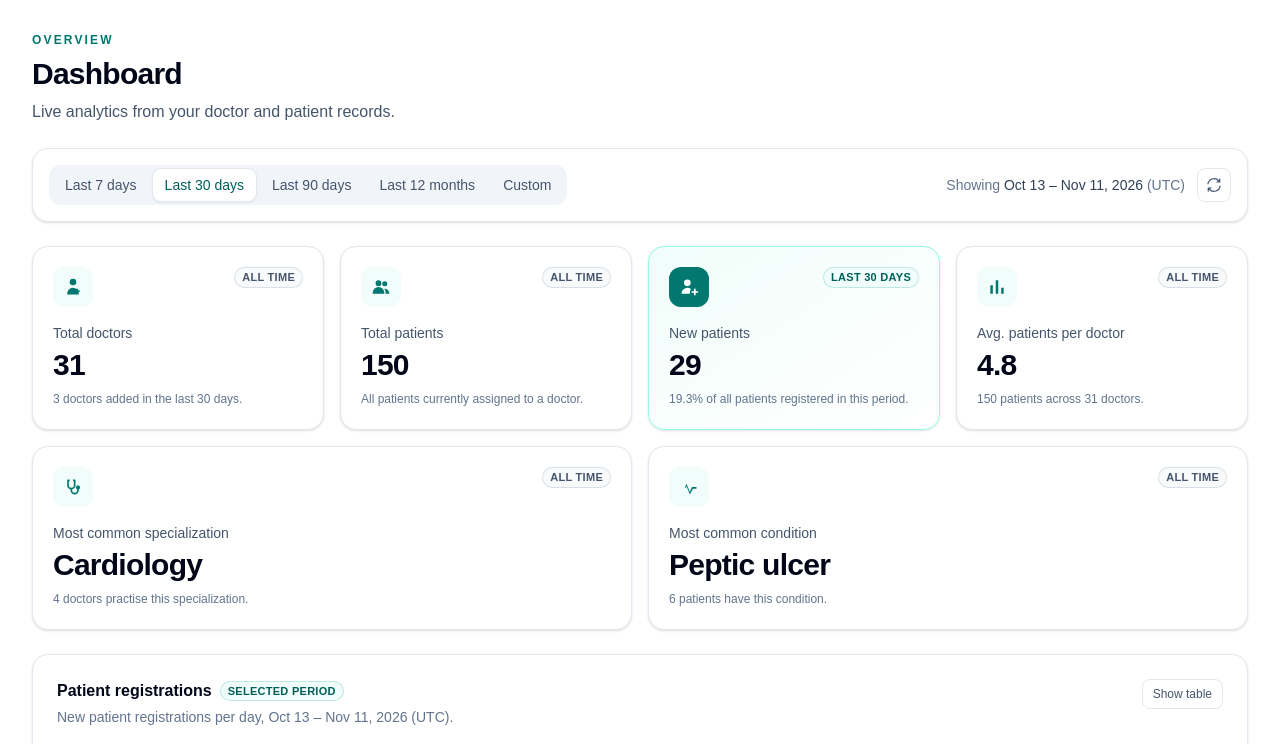
DashboardManager › validates and applies a custom range
Expected: the text "31" is shown, [53,348,85,381]
Click the radio button labelled "Custom".
click(527, 185)  # box [491,169,563,201]
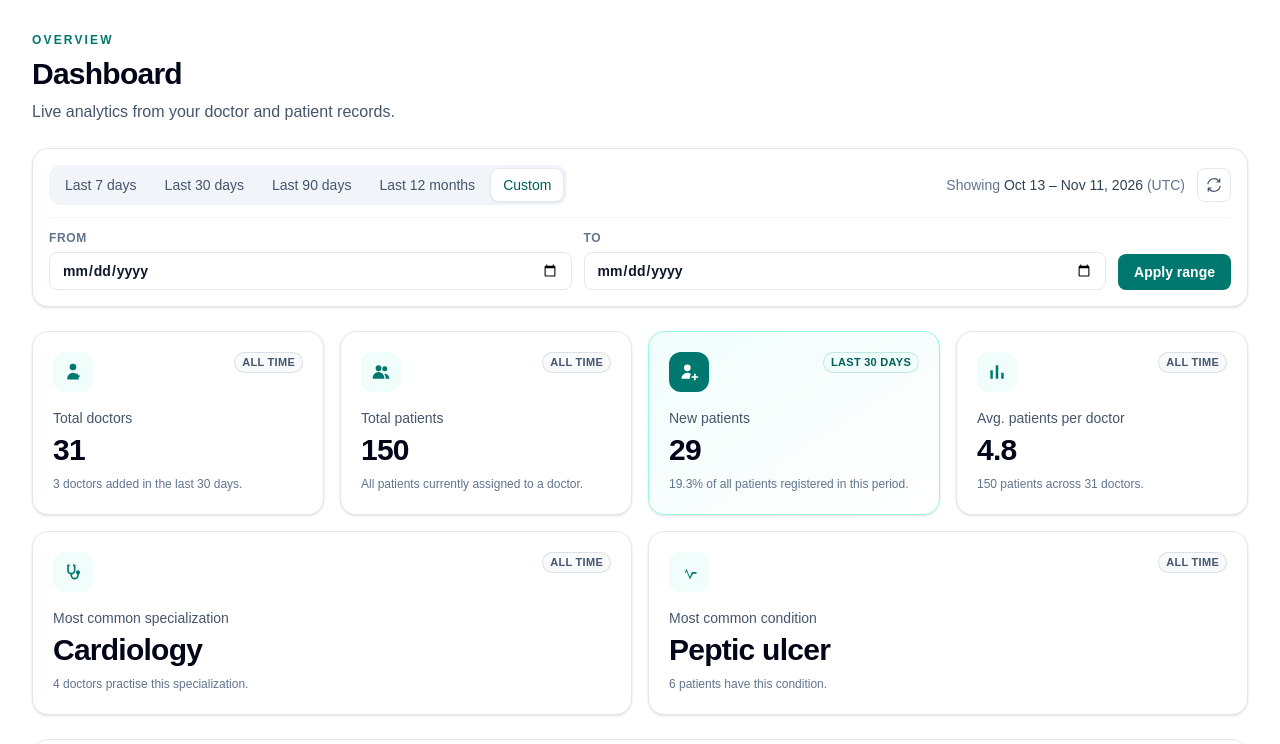
Type "2026-04-01" into the date field named "Custom start date".
click(310, 271); type("2026-04-01")  # box [49,252,572,290]
Type "2026-03-01" into the date field named "Custom end date".
click(845, 271); type("2026-03-01")  # box [584,252,1106,290]
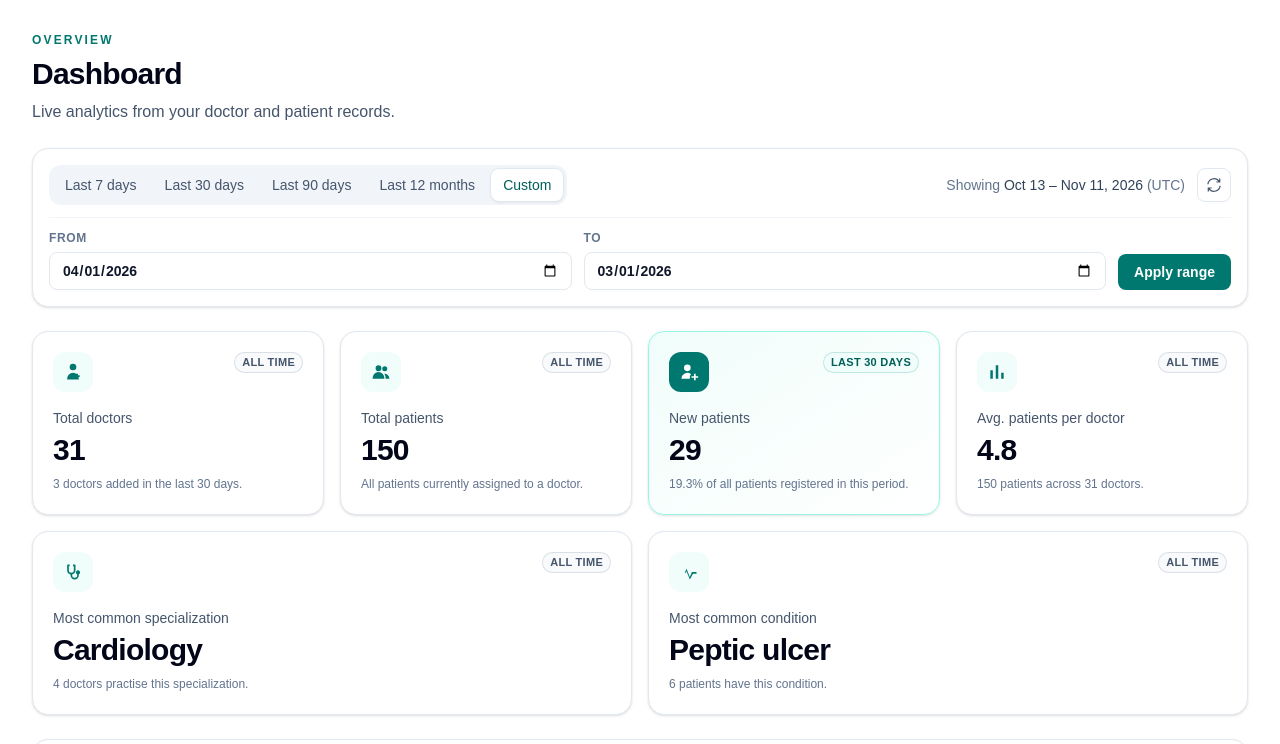
Click the button "Apply range".
click(1175, 272)  # box [1118,254,1231,290]
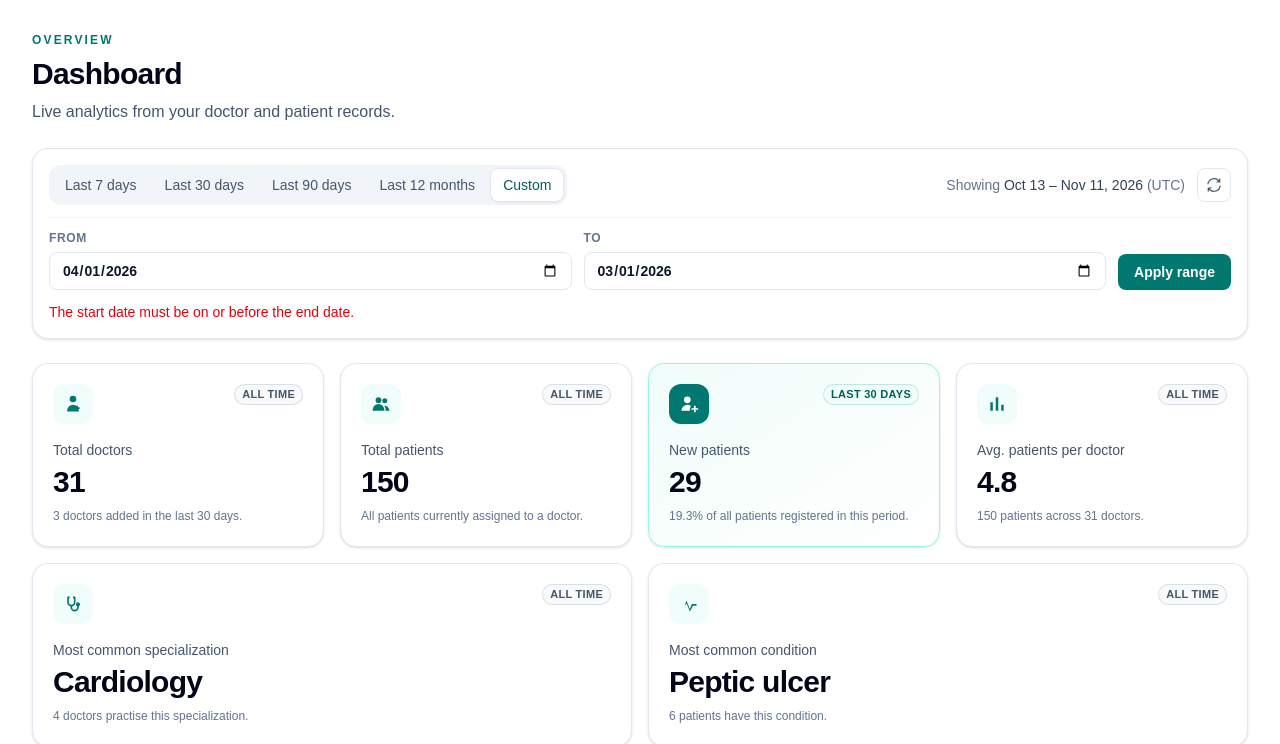
Expected: the message reads "The start date must be on or before the end date.", [49,304,354,320]
Type "2026-03-01" into the date field named "Custom start date".
click(310, 271); type("2026-03-01")  # box [49,252,572,290]
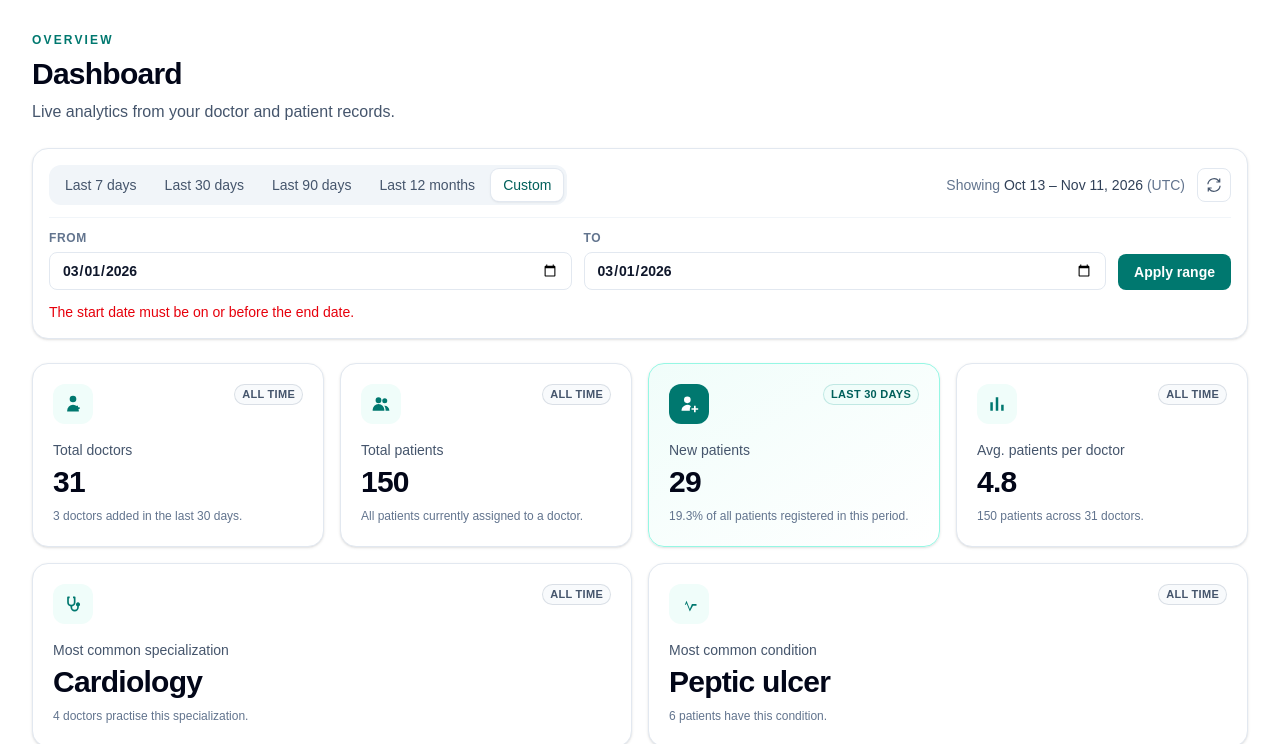
Type "2026-03-31" into the date field named "Custom end date".
click(845, 271); type("2026-03-31")  # box [584,252,1106,290]
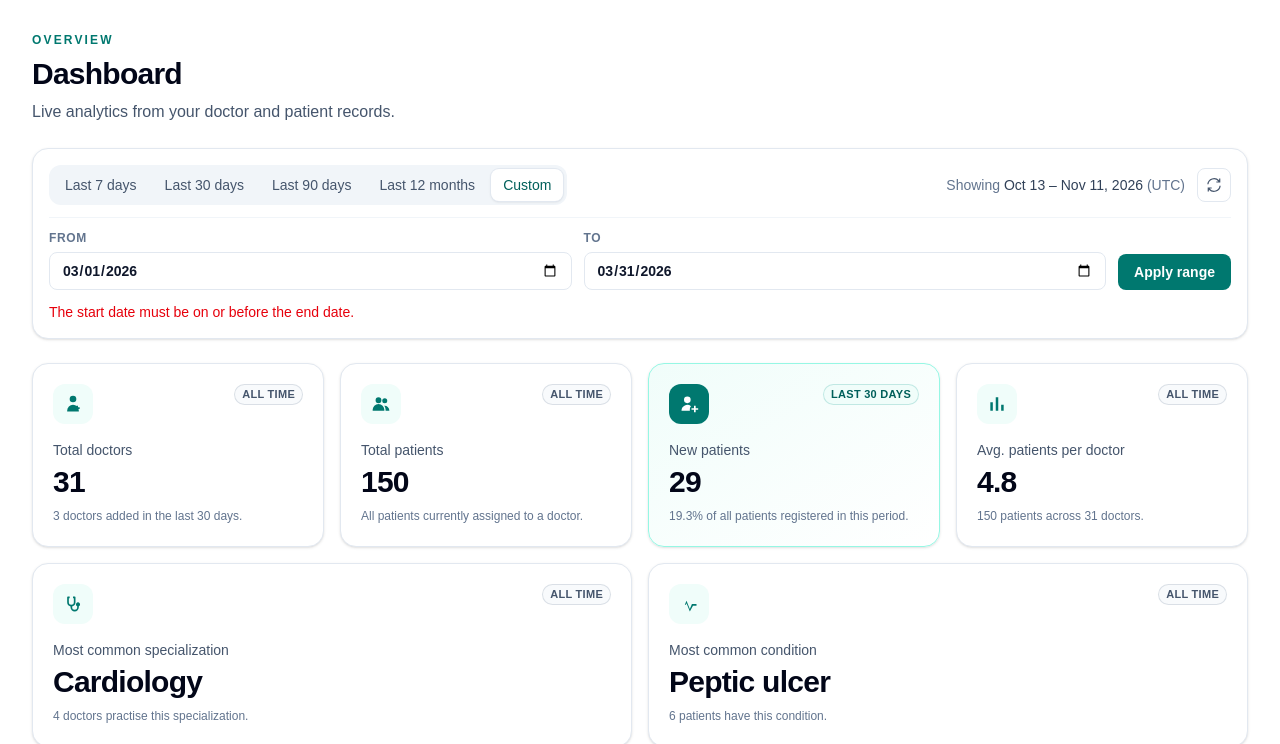
Click the button "Apply range".
click(1175, 272)  # box [1118,254,1231,290]
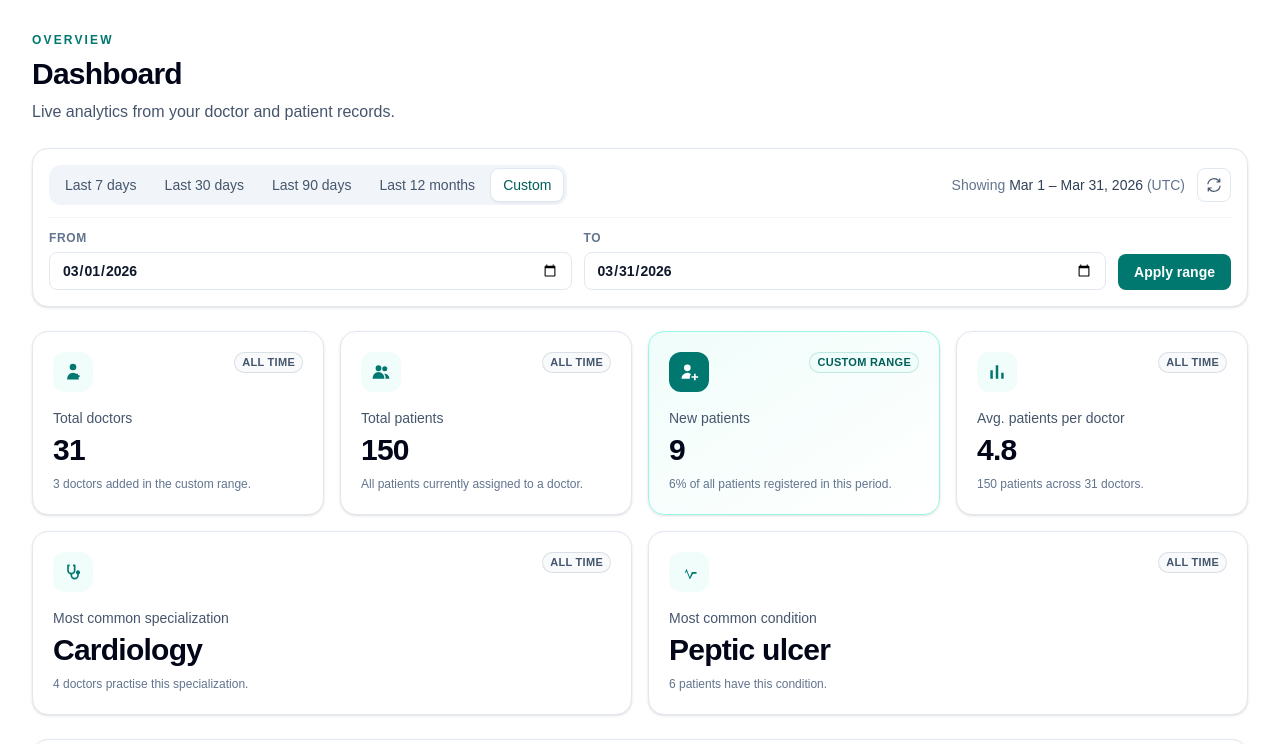
Expected: the text "9" is shown, [669,433,685,466]
Expected: the text "Custom range" is shown, [810,352,919,372]
